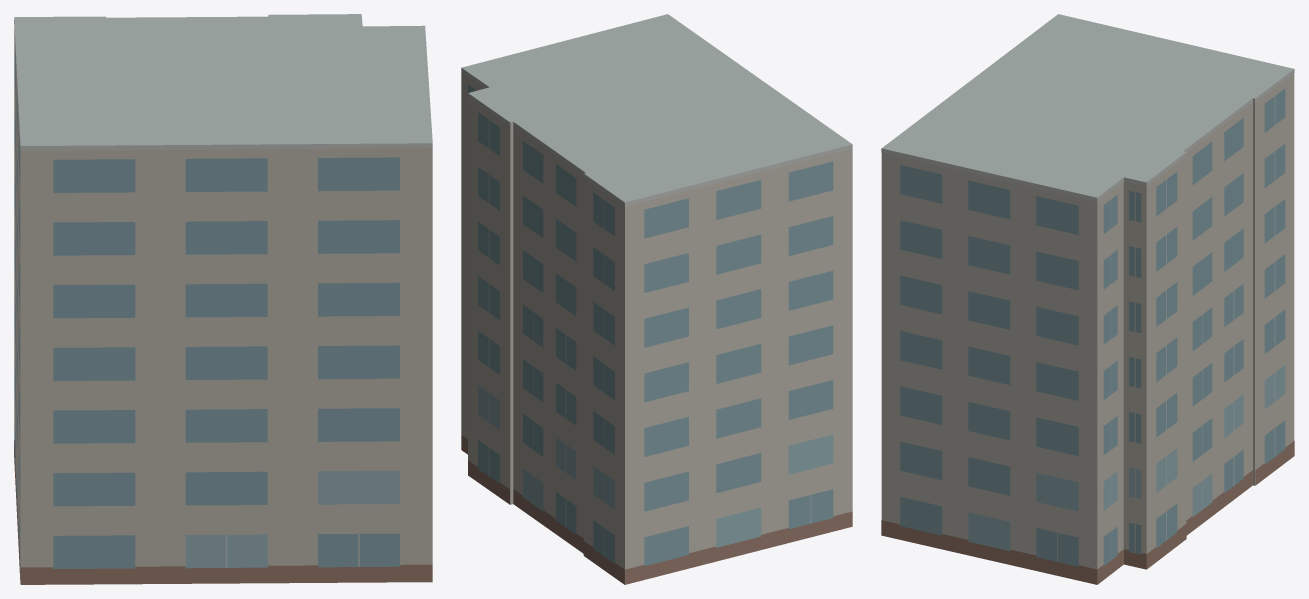
File: survey-upis-32876800.glb
3 renders of one model, left to right at view 1: azimuth 30°, elevation 25°; view 2: azimuth 150°, elevation 25°; view 3: azimuth 270°, elevation 25°, orthographic. The views are drawn at different scales.
Visible parts, largest first — view 1: survey-upis-32876800.tmp; view 2: survey-upis-32876800.tmp; view 3: survey-upis-32876800.tmp.
Boxes of the visible parts, x1,y1,x2,y2 form: survey-upis-32876800.tmp: [14, 14, 432, 584]; survey-upis-32876800.tmp: [461, 14, 852, 584]; survey-upis-32876800.tmp: [881, 14, 1294, 584].
Size of the model in its own units: 22.71 by 22.3 by 21.57.
